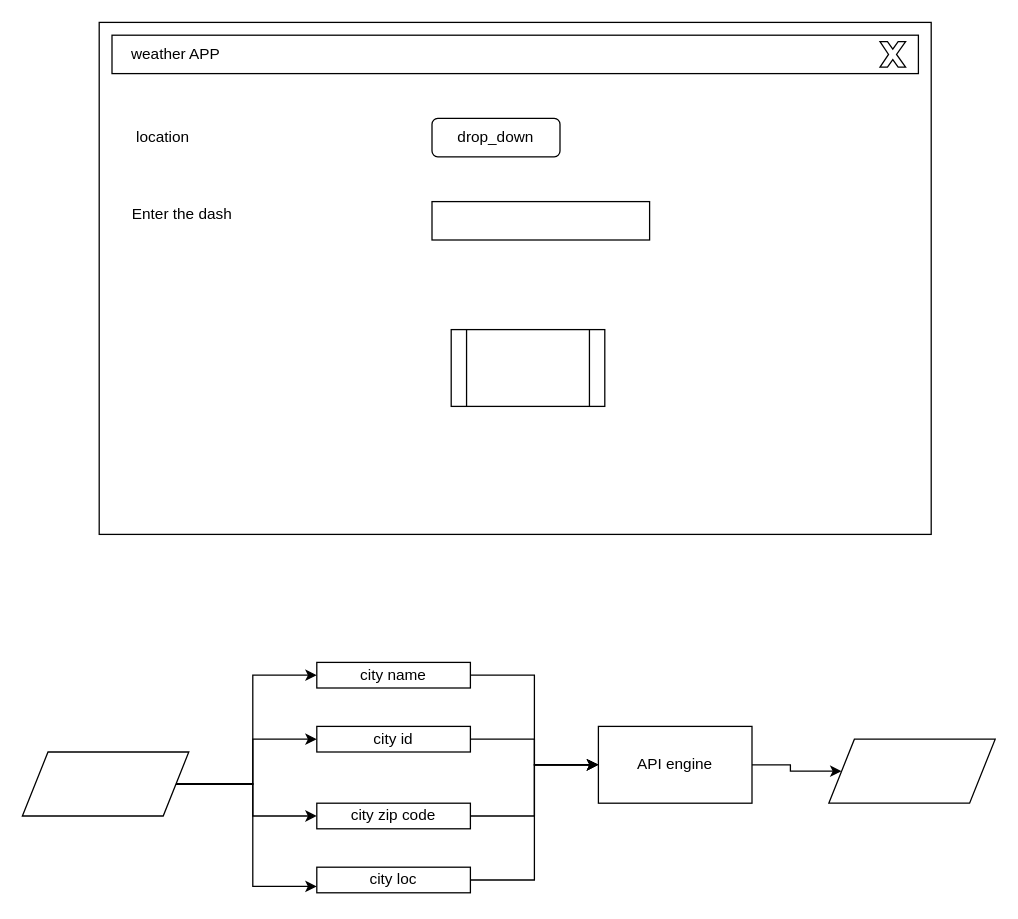
Image size: 1018x919. Some labels were removed from this diagram. Here are the shapes that lost their labels. From the top down, the centre of each, then its label:
pixel 527 367: corresponding Weather
pixel 105 783: choose option
pixel 911 770: Weather out
